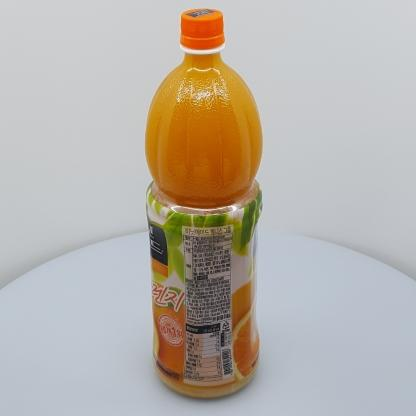-----------1-5L: (145, 8, 263, 399)
